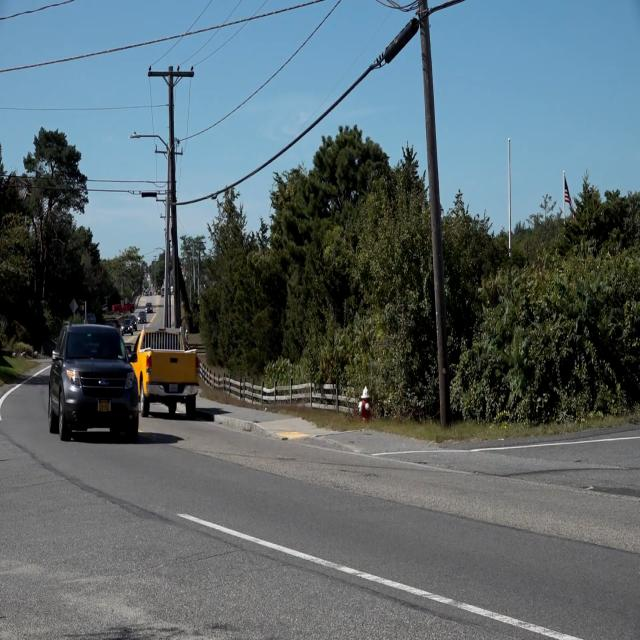pickup: (130, 324, 205, 429)
suv: (46, 317, 140, 449)
